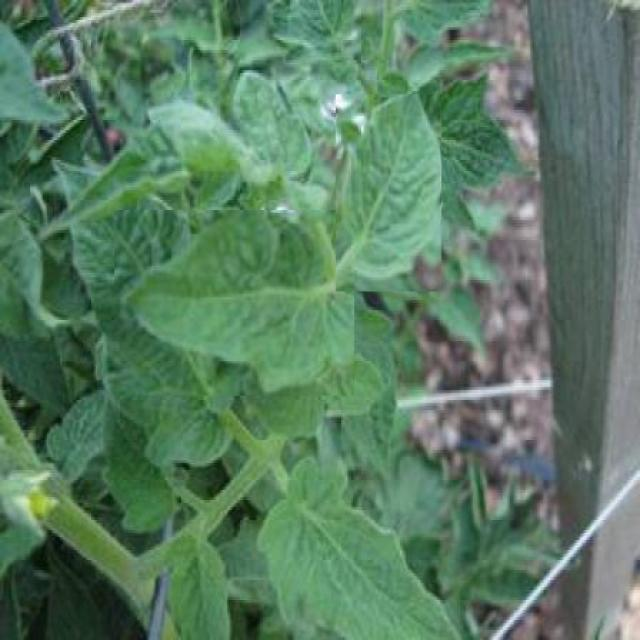Healthy: (114, 210, 354, 396), (336, 95, 441, 291)
